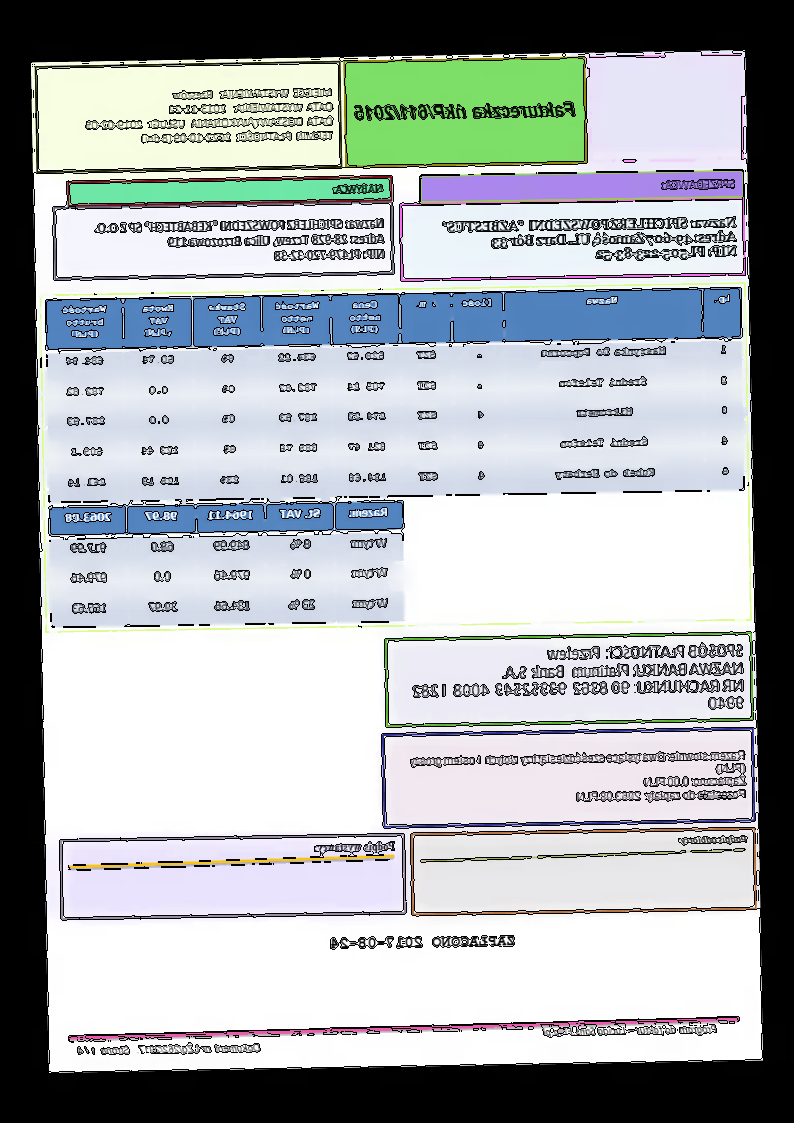Table: (43, 285, 747, 505), (46, 498, 409, 629)
TextBox: (406, 638, 748, 719), (403, 746, 750, 808), (78, 81, 337, 150), (440, 210, 740, 269), (89, 212, 388, 270), (351, 95, 578, 127), (72, 1037, 266, 1063), (327, 931, 518, 954), (538, 1019, 722, 1042), (311, 836, 399, 860), (660, 172, 741, 195), (677, 828, 754, 851), (331, 179, 387, 199)
